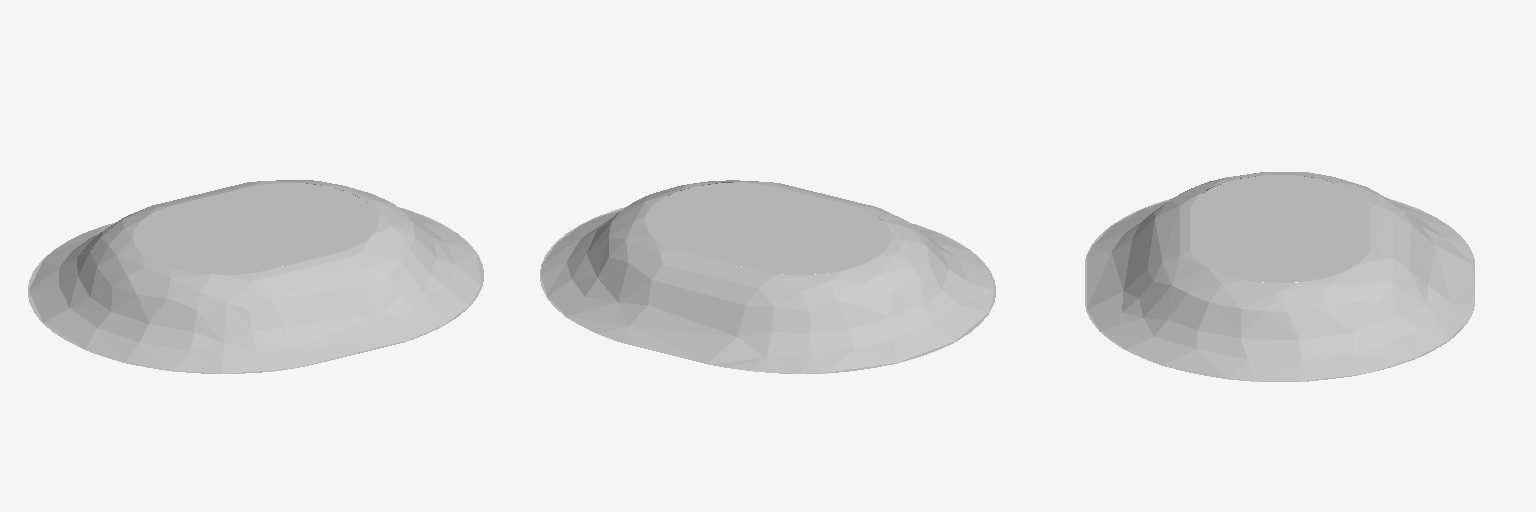
File: Ramp.obj
3 renders of one model, left to right at view 1: azimuth 30°, elevation 25°; view 2: azimuth 150°, elevation 25°; view 3: azimuth 270°, elevation 25°, orthographic.
Visible parts, largest first — view 1: instance_0.001_ID13; view 2: instance_0.001_ID13; view 3: instance_0.001_ID13.
Part boxes in pixels (x1,y1,x2,y2): instance_0.001_ID13: (28, 180, 483, 373); instance_0.001_ID13: (540, 180, 995, 373); instance_0.001_ID13: (1085, 172, 1474, 381).
Size of the model in its own units: 10.27 by 1.35 by 8.59.